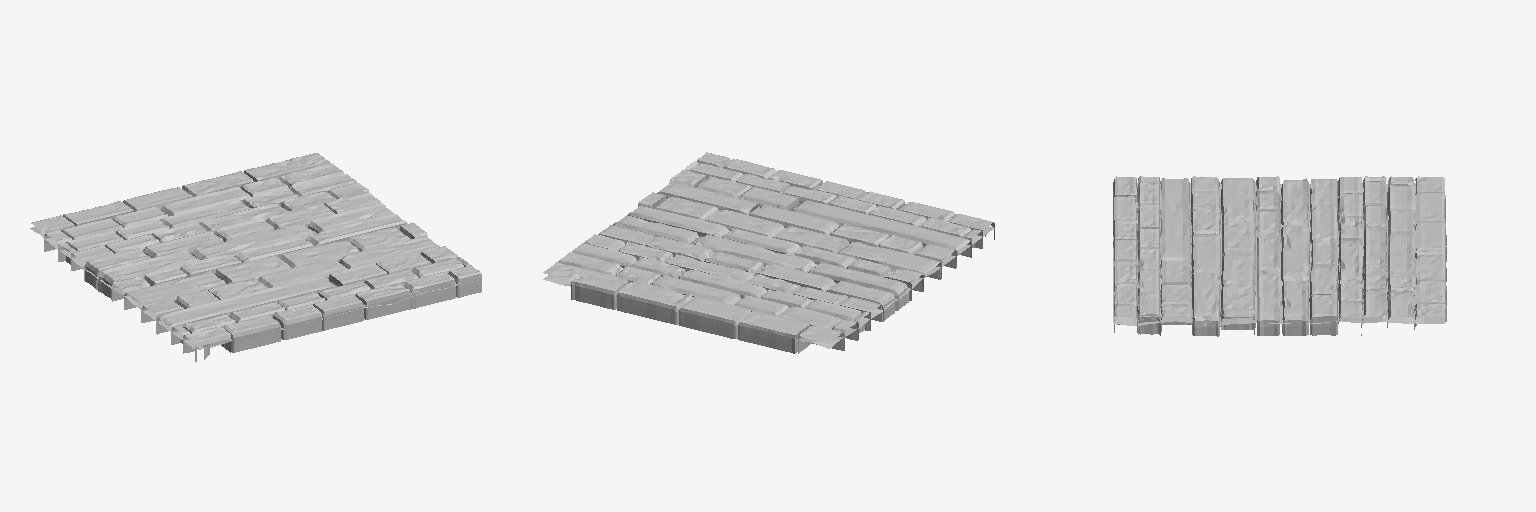
The model's file is sponza_brick_2.obj.
3 renders of one model, left to right at view 1: azimuth 30°, elevation 25°; view 2: azimuth 150°, elevation 25°; view 3: azimuth 270°, elevation 25°, orthographic.
Parts seen in each view (by area): view 1: Plane, Plane.001; view 2: Plane, Plane.001; view 3: Plane, Plane.001.
Boxes of the visible parts, <box> form: Plane: <box>31,153,481,361</box>; Plane.001: <box>30,227,478,349</box>; Plane: <box>543,152,994,353</box>; Plane.001: <box>543,188,994,348</box>; Plane: <box>1113,176,1446,336</box>; Plane.001: <box>1113,182,1444,325</box>.
Bounding box in the file's own units: 2.01 × 0.1381 × 2.01.